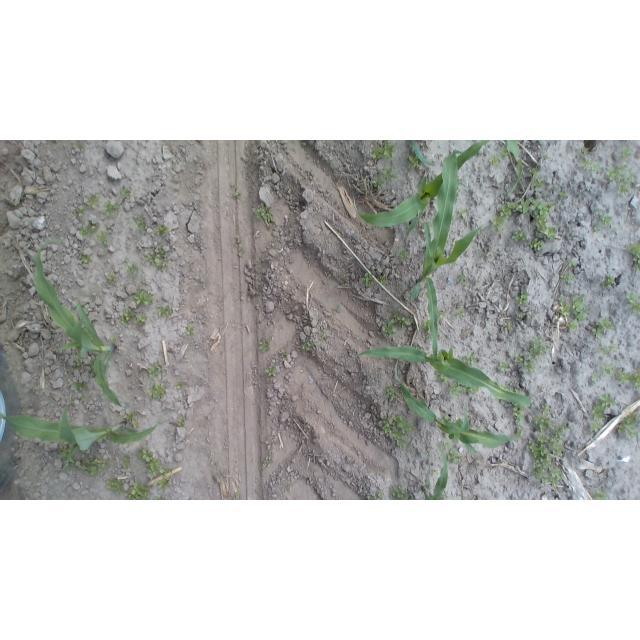Maize: (31, 238, 130, 410), (409, 149, 488, 364), (357, 141, 492, 236), (358, 339, 532, 409), (393, 365, 527, 455), (1, 407, 163, 454), (420, 439, 452, 500), (505, 141, 528, 204), (409, 140, 435, 166)
Weeds: (554, 292, 590, 333), (382, 413, 415, 450), (528, 433, 553, 481), (532, 199, 557, 241), (552, 420, 571, 458), (593, 393, 616, 423), (139, 447, 162, 475), (80, 455, 109, 477), (501, 197, 530, 216), (542, 465, 567, 487), (145, 245, 167, 269), (58, 445, 76, 474), (619, 412, 638, 439), (591, 317, 614, 339), (528, 335, 550, 357), (370, 140, 394, 160), (614, 369, 640, 387), (126, 481, 151, 499), (626, 243, 640, 274), (234, 231, 249, 259), (389, 484, 415, 500), (606, 164, 629, 181), (254, 205, 273, 224), (626, 291, 640, 314), (134, 290, 154, 306), (148, 382, 166, 399), (380, 167, 398, 184), (534, 414, 553, 430), (596, 343, 620, 355), (449, 384, 472, 396), (582, 156, 598, 172), (619, 178, 634, 195), (158, 470, 172, 488), (106, 479, 124, 493), (147, 362, 163, 377), (103, 201, 119, 216), (391, 313, 407, 328), (384, 383, 397, 401), (366, 489, 387, 500), (383, 321, 398, 336), (371, 177, 386, 192), (123, 412, 137, 428), (87, 193, 101, 209), (79, 223, 95, 237), (602, 275, 616, 289), (561, 269, 575, 283), (598, 214, 612, 228), (516, 291, 530, 305), (450, 448, 463, 463), (362, 272, 375, 287), (121, 309, 133, 325), (279, 346, 292, 360), (513, 230, 527, 243), (126, 261, 139, 275), (513, 405, 523, 423), (157, 305, 172, 317), (133, 217, 145, 232), (396, 246, 408, 261), (442, 438, 455, 451), (479, 249, 492, 262), (258, 339, 270, 353), (494, 215, 506, 229), (530, 238, 544, 250), (300, 339, 312, 353), (500, 143, 510, 159), (532, 178, 544, 191), (464, 354, 478, 365), (73, 381, 87, 392), (456, 208, 468, 220), (408, 156, 420, 168), (525, 360, 536, 373), (589, 421, 602, 432), (175, 380, 186, 393), (262, 454, 272, 468), (590, 206, 605, 215), (509, 387, 528, 394), (621, 147, 632, 159), (331, 302, 342, 314), (157, 225, 170, 235), (98, 231, 108, 244), (595, 489, 608, 499), (86, 357, 95, 371), (514, 353, 525, 364), (106, 272, 117, 283), (603, 366, 614, 377), (498, 362, 510, 372), (490, 154, 500, 166), (74, 141, 86, 151), (439, 308, 448, 321), (422, 319, 430, 333), (457, 274, 467, 285), (72, 358, 82, 369), (581, 145, 591, 156), (540, 404, 550, 415), (301, 423, 311, 434), (80, 254, 92, 263), (77, 205, 86, 217), (123, 456, 130, 471), (265, 366, 275, 376), (120, 187, 130, 197), (558, 189, 568, 199), (137, 315, 147, 325), (232, 490, 242, 500), (567, 257, 577, 267), (186, 325, 195, 336), (457, 309, 466, 320), (233, 188, 242, 199), (437, 374, 447, 383), (319, 331, 328, 341), (441, 415, 452, 423), (379, 275, 387, 286), (592, 224, 601, 233), (529, 167, 538, 176), (324, 273, 333, 282), (178, 417, 186, 427), (590, 372, 598, 382), (517, 310, 525, 319), (80, 394, 89, 402), (505, 322, 514, 330), (543, 154, 552, 162), (426, 448, 433, 458), (260, 439, 270, 446), (428, 466, 436, 474), (110, 336, 117, 345), (153, 495, 165, 500), (462, 283, 470, 290), (68, 400, 75, 407), (272, 225, 278, 233), (457, 177, 461, 188), (532, 310, 536, 318), (259, 418, 265, 423), (309, 315, 314, 321)
